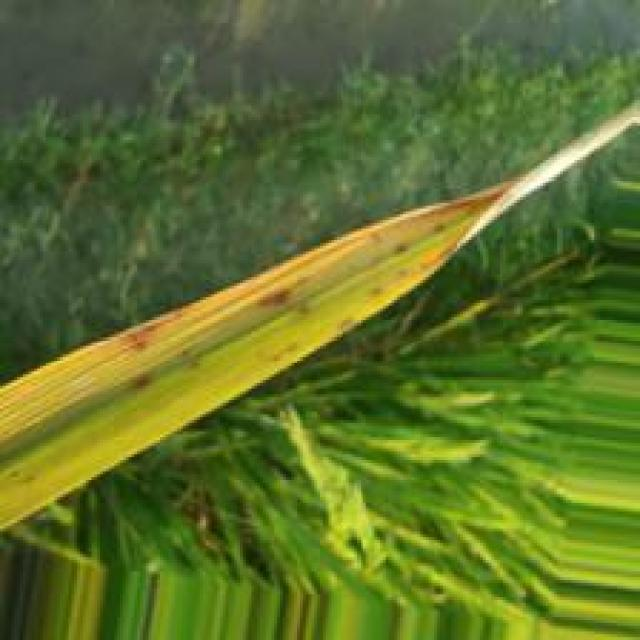Brown_Spot: (256, 279, 298, 315), (124, 324, 150, 355), (130, 372, 157, 392)
